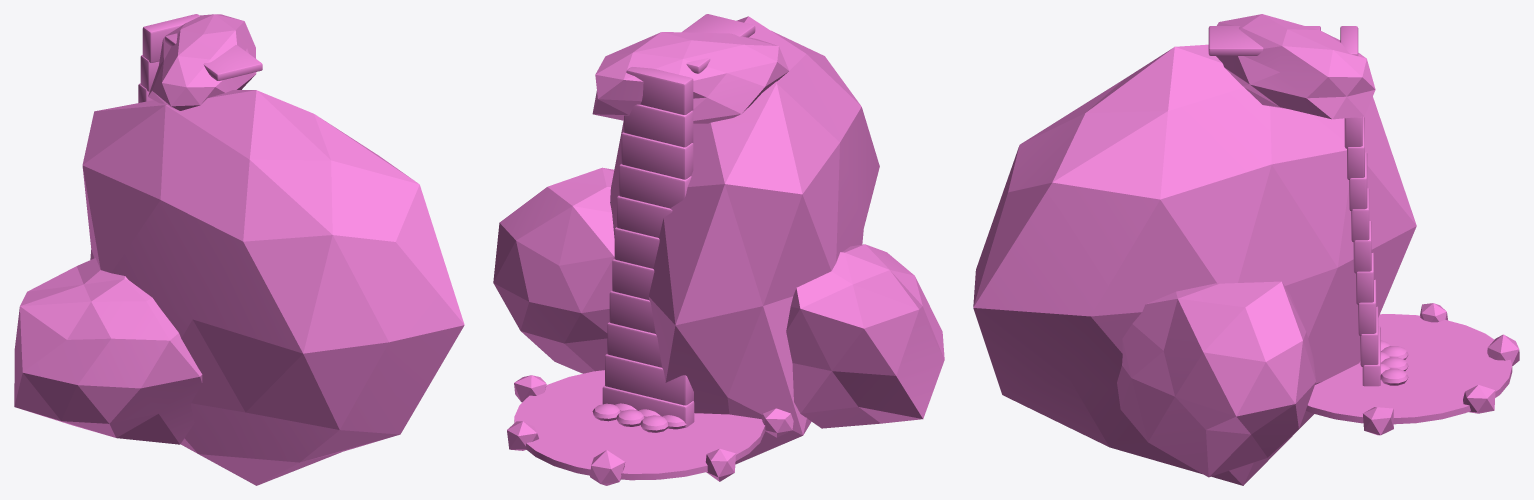
Rendered from Mountain_Waterfall.fbx.
3 views of the same model, side by side, from view 1: azimuth 30°, elevation 25°; view 2: azimuth 150°, elevation 25°; view 3: azimuth 270°, elevation 25° (orthographic). The views are drawn at different scales.
Visible parts, largest first — view 1: Rocks, Water; view 2: Rocks, Water; view 3: Rocks, Water.
Part boxes in pixels (x1=…): Rocks: x1=14, y1=14, x2=464, y2=485; Water: x1=138, y1=14, x2=262, y2=102; Rocks: x1=493, y1=16, x2=944, y2=485; Water: x1=514, y1=14, x2=765, y2=480; Rocks: x1=973, y1=14, x2=1519, y2=485; Water: x1=1208, y1=26, x2=1512, y2=424.
Bounding box in the file's own units: 44.75 × 42.69 × 48.59.
1 material, 1 textured.
